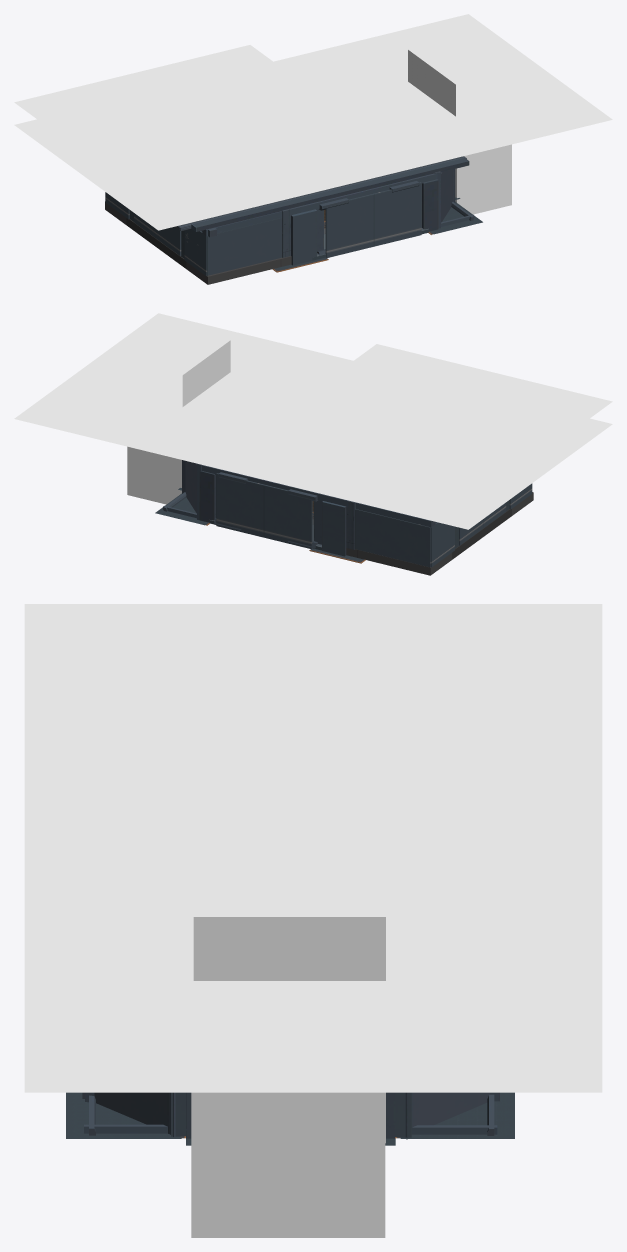
3 views of the same model, one above another, from view 1: azimuth 30°, elevation 25°; view 2: azimuth 150°, elevation 25°; view 3: azimuth 270°, elevation 25° (orthographic). The views are drawn at different scales.
Parts seen in each view (by area): view 1: s_slg_planeshadow06 (6), s_slg_planeshadow06 (3), s_slg_planeshadow06 (5), s_slg_planeshadow06 (4), Lobby_WeaponRoom_WorkbencheswallB_LOD0 (×4), Lobby_WeaponRoom_WallC_LOD0 (×2), s_slg_planeshadow11cube, Lobby_WeaponRoom_WorkbencheswallC_LOD0, Lobby_WeaponRoom_floorA, s_slg_planeshadow06 (2), Lobby_WeaponRoom_WallA_LOD0, Lobby_WeaponRoom_WallB_LOD0 (+3 smaller); view 2: s_slg_planeshadow06 (6), s_slg_planeshadow06 (3), s_slg_planeshadow06 (5), s_slg_planeshadow06 (4), Lobby_WeaponRoom_WorkbencheswallB_LOD0 (×3), Lobby_WeaponRoom_WorkbencheswallC_LOD0, s_slg_planeshadow11cube, Lobby_WeaponRoom_floorA, s_slg_planeshadow06 (2), Lobby_WeaponRoom_WallC_LOD0, Lobby_WeaponRoom_WallA_LOD0, Lobby_WeaponRoom_WallB_LOD0 (+4 smaller); view 3: s_slg_planeshadow06 (6), s_slg_planeshadow06 (3), s_slg_planeshadow06 (5), s_slg_planeshadow11cube, s_slg_planeshadow06 (4), s_slg_planeshadow06 (2), Lobby_WeaponRoom_floorD02 (×2), Lobby_WeaponRoom_WallB_LOD0 (×2).
Part boxes in pixels (x1=…): s_slg_planeshadow06 (6): x1=14, y1=45, x2=394, y2=207; s_slg_planeshadow06 (3): x1=274, y1=27, x2=559, y2=177; s_slg_planeshadow06 (5): x1=365, y1=14, x2=612, y2=132; s_slg_planeshadow06 (4): x1=14, y1=119, x2=393, y2=230; Lobby_WeaponRoom_WorkbencheswallB_LOD0 (×4): x1=157, y1=182, x2=421, y2=275; Lobby_WeaponRoom_WallC_LOD0 (×2): x1=191, y1=157, x2=469, y2=265; s_slg_planeshadow11cube: x1=455, y1=144, x2=511, y2=214; Lobby_WeaponRoom_WorkbencheswallC_LOD0: x1=206, y1=218, x2=282, y2=275; Lobby_WeaponRoom_floorA: x1=105, y1=201, x2=291, y2=284; s_slg_planeshadow06 (2): x1=408, y1=50, x2=455, y2=197; Lobby_WeaponRoom_WallA_LOD0: x1=422, y1=179, x2=438, y2=231; Lobby_WeaponRoom_WallB_LOD0: x1=441, y1=169, x2=452, y2=222; s_slg_planeshadow06 (6): x1=233, y1=344, x2=612, y2=507; s_slg_planeshadow06 (3): x1=67, y1=326, x2=353, y2=478; s_slg_planeshadow06 (5): x1=14, y1=313, x2=262, y2=434; s_slg_planeshadow06 (4): x1=253, y1=418, x2=612, y2=529; Lobby_WeaponRoom_WorkbencheswallB_LOD0 (×3): x1=216, y1=473, x2=454, y2=567; Lobby_WeaponRoom_WorkbencheswallC_LOD0: x1=355, y1=509, x2=430, y2=567; s_slg_planeshadow11cube: x1=127, y1=446, x2=181, y2=504; Lobby_WeaponRoom_floorA: x1=346, y1=492, x2=533, y2=575; s_slg_planeshadow06 (2): x1=182, y1=340, x2=230, y2=406; Lobby_WeaponRoom_WallC_LOD0: x1=322, y1=501, x2=346, y2=556; Lobby_WeaponRoom_WallA_LOD0: x1=199, y1=471, x2=215, y2=522; Lobby_WeaponRoom_WallB_LOD0: x1=185, y1=461, x2=196, y2=513; s_slg_planeshadow06 (6): x1=24, y1=604, x2=602, y2=834; s_slg_planeshadow06 (3): x1=24, y1=879, x2=602, y2=1040; s_slg_planeshadow06 (5): x1=24, y1=991, x2=602, y2=1092; s_slg_planeshadow11cube: x1=191, y1=1092, x2=385, y2=1237; s_slg_planeshadow06 (4): x1=24, y1=834, x2=602, y2=879; s_slg_planeshadow06 (2): x1=193, y1=917, x2=385, y2=1143; Lobby_WeaponRoom_floorD02 (×2): x1=66, y1=1092, x2=514, y2=1138; Lobby_WeaponRoom_WallB_LOD0 (×2): x1=94, y1=1092, x2=489, y2=1134.
Bounding box in the file's own units: 35.04 × 9.83 × 19.29.
Materials: 38 (34 with a texture image).
